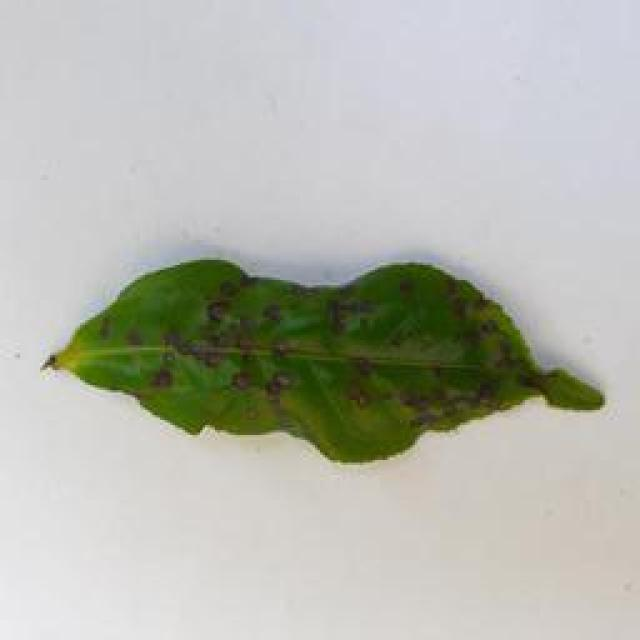Helopeltis: (39, 249, 610, 466)
